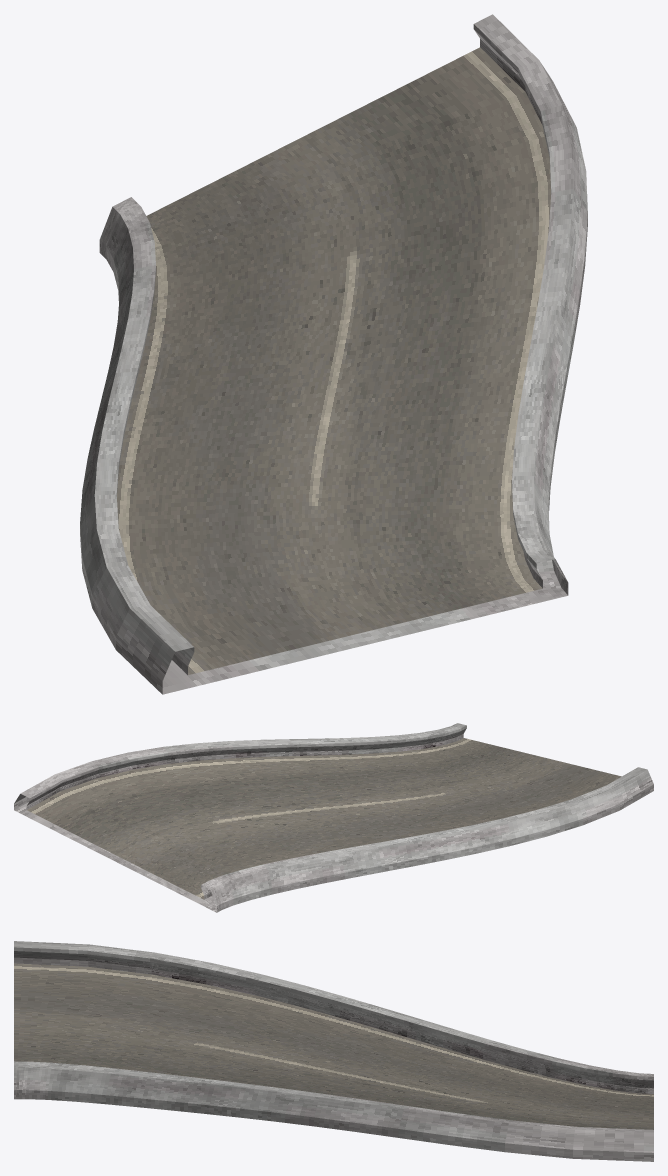
The model's file is road-Chicane-Flat-HalfBankedLeft-Even-Right1-Size2.glb.
The picture shows the model from 3 angles, top to bottom: view 1: azimuth 30°, elevation 25°; view 2: azimuth 150°, elevation 25°; view 3: azimuth 270°, elevation 25°; orthographic projection. The views are drawn at different scales.
Visible parts, largest first — view 1: road-Chicane-Flat-HalfBankedLeft-Even-Right1-Size2; view 2: road-Chicane-Flat-HalfBankedLeft-Even-Right1-Size2; view 3: road-Chicane-Flat-HalfBankedLeft-Even-Right1-Size2.
Boxes of the visible parts, bbox=[...] form: road-Chicane-Flat-HalfBankedLeft-Even-Right1-Size2: bbox=[80, 14, 587, 694]; road-Chicane-Flat-HalfBankedLeft-Even-Right1-Size2: bbox=[14, 723, 653, 912]; road-Chicane-Flat-HalfBankedLeft-Even-Right1-Size2: bbox=[14, 941, 653, 1161].
Size of the model in its own units: 2 by 0.3359 by 2.
Materials: 2 (2 with a texture image).
